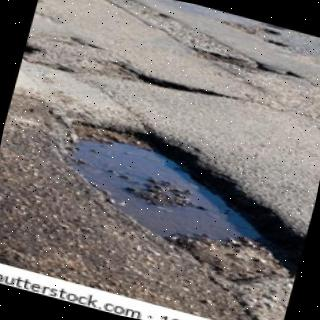pothole: (70, 122, 303, 277)
